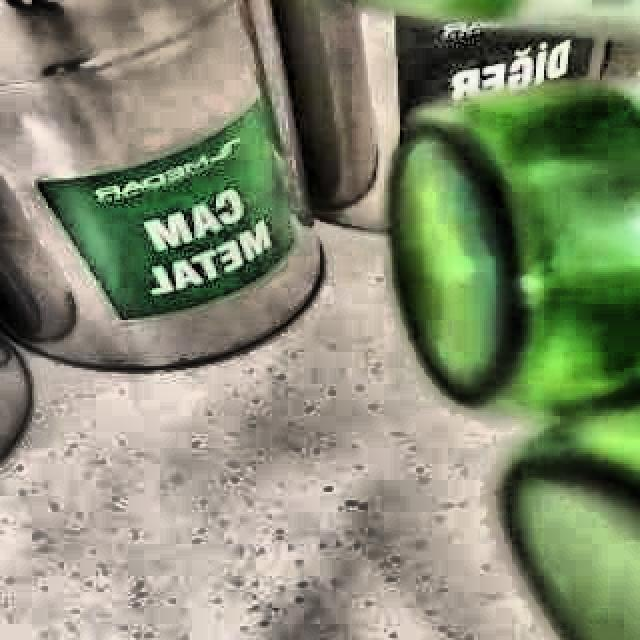glass: (392, 83, 640, 640)
